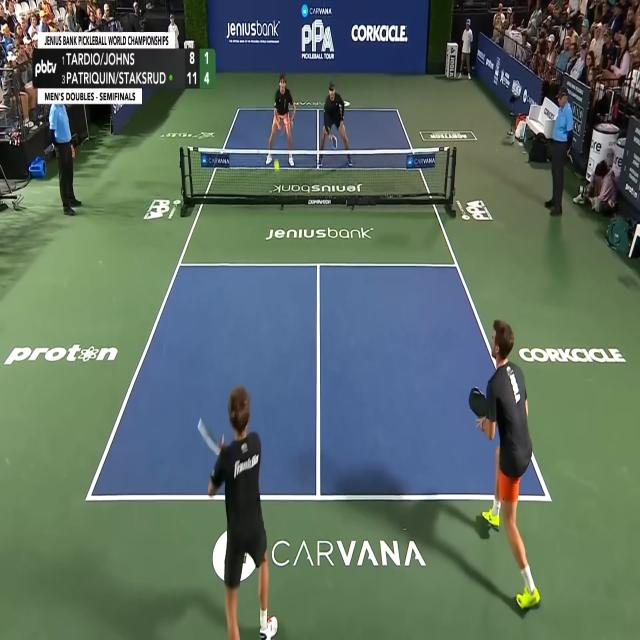ball: (274, 160, 280, 172)
